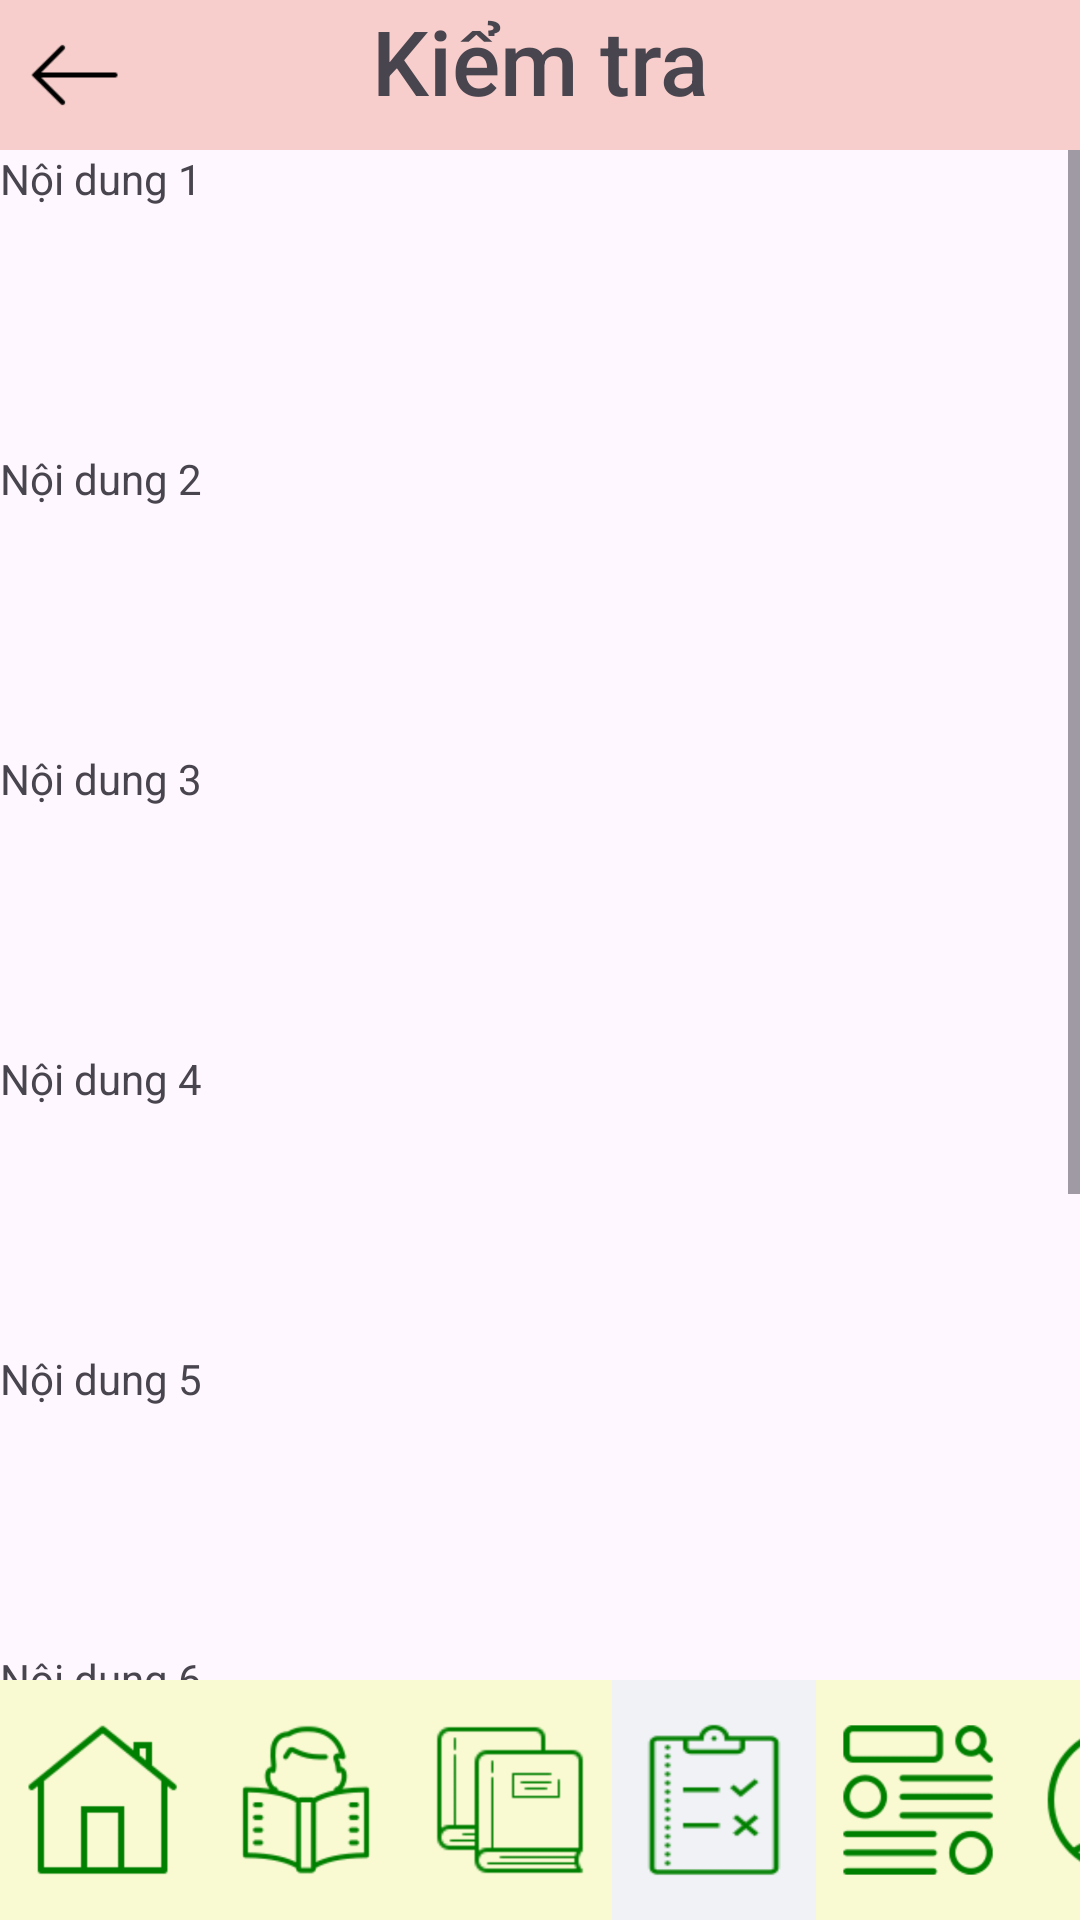

Screen size 1080 × 1920. Icon name, then its center in pixels as point (x, y):
back: point (74, 75)
exam: point (714, 1800)
home: point (102, 1799)
learn: point (306, 1799)
